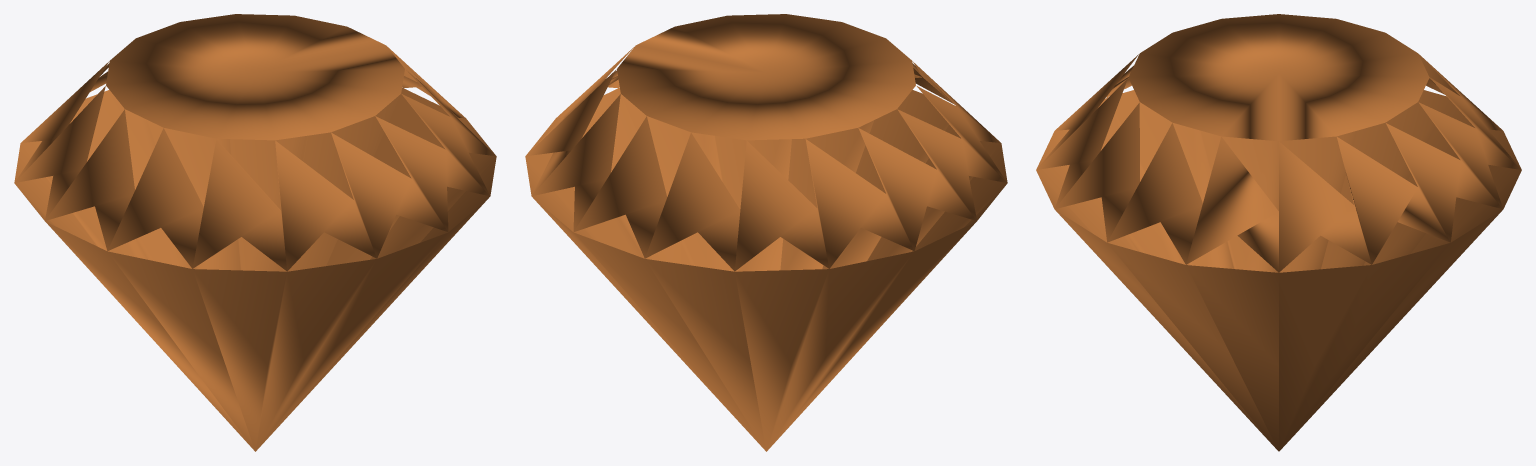
File: brilliant-orange.glb
3 renders of one model, left to right at view 1: azimuth 30°, elevation 25°; view 2: azimuth 150°, elevation 25°; view 3: azimuth 270°, elevation 25°, orthographic.
Parts seen in each view (by area): view 1: gem; view 2: gem; view 3: gem.
Boxes of the visible parts, x1,y1,x2,y2 form: gem: (14,14,496,451); gem: (525,14,1007,451); gem: (1036,14,1521,451).
Bounding box in the file's own units: 2 × 1.72 × 2.
